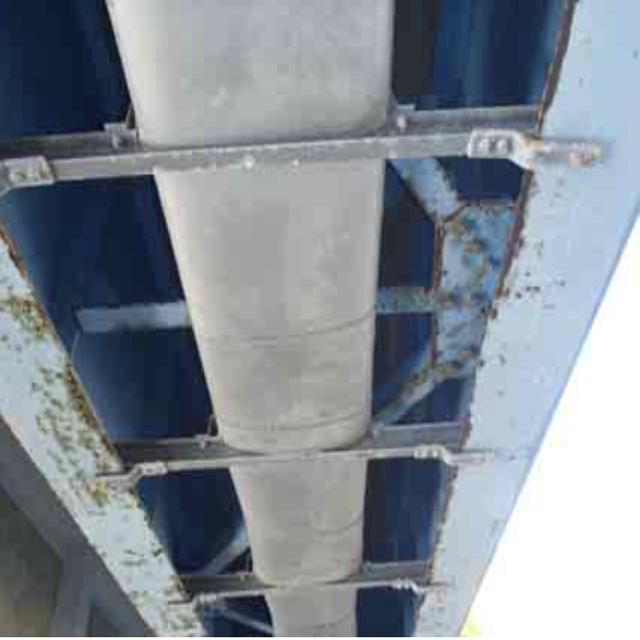corrosion: (14, 276, 133, 494), (421, 184, 520, 414)
